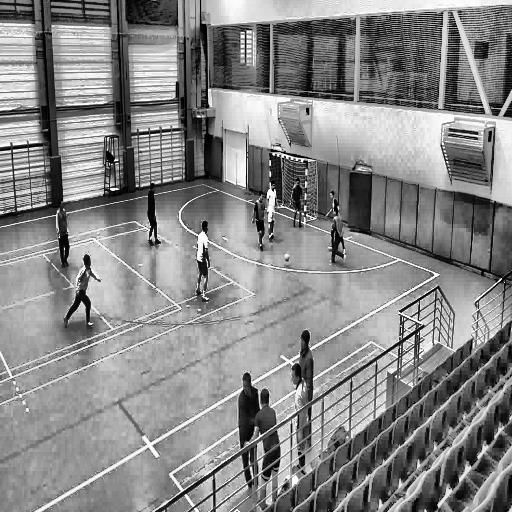ball: (283, 249, 293, 265)
player: (242, 387, 280, 497), (62, 254, 102, 334), (238, 371, 260, 496), (291, 360, 310, 473), (299, 328, 314, 454), (54, 196, 72, 270), (326, 190, 346, 255), (196, 221, 211, 305), (328, 206, 347, 269), (147, 181, 162, 251), (288, 178, 307, 230), (252, 190, 266, 253), (267, 178, 279, 244)
